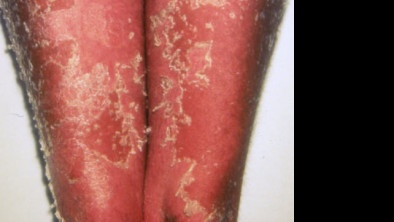SJS-TEN: (0, 0, 151, 222), (143, 0, 288, 222)
